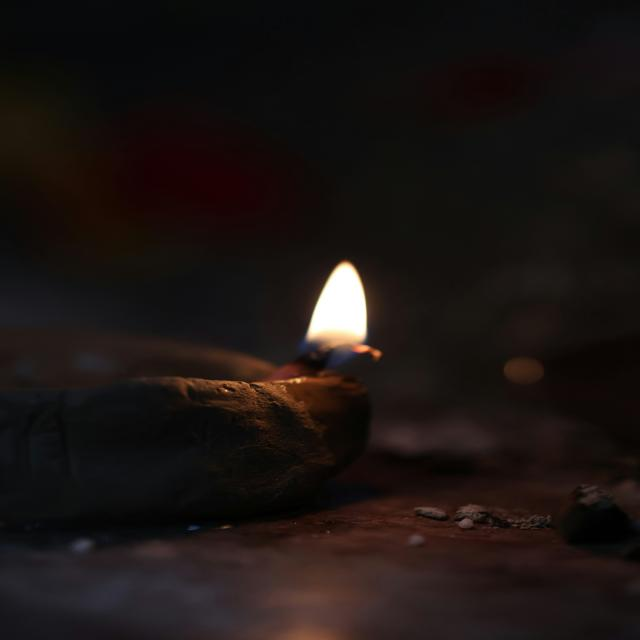fire: (297, 259, 370, 370)
